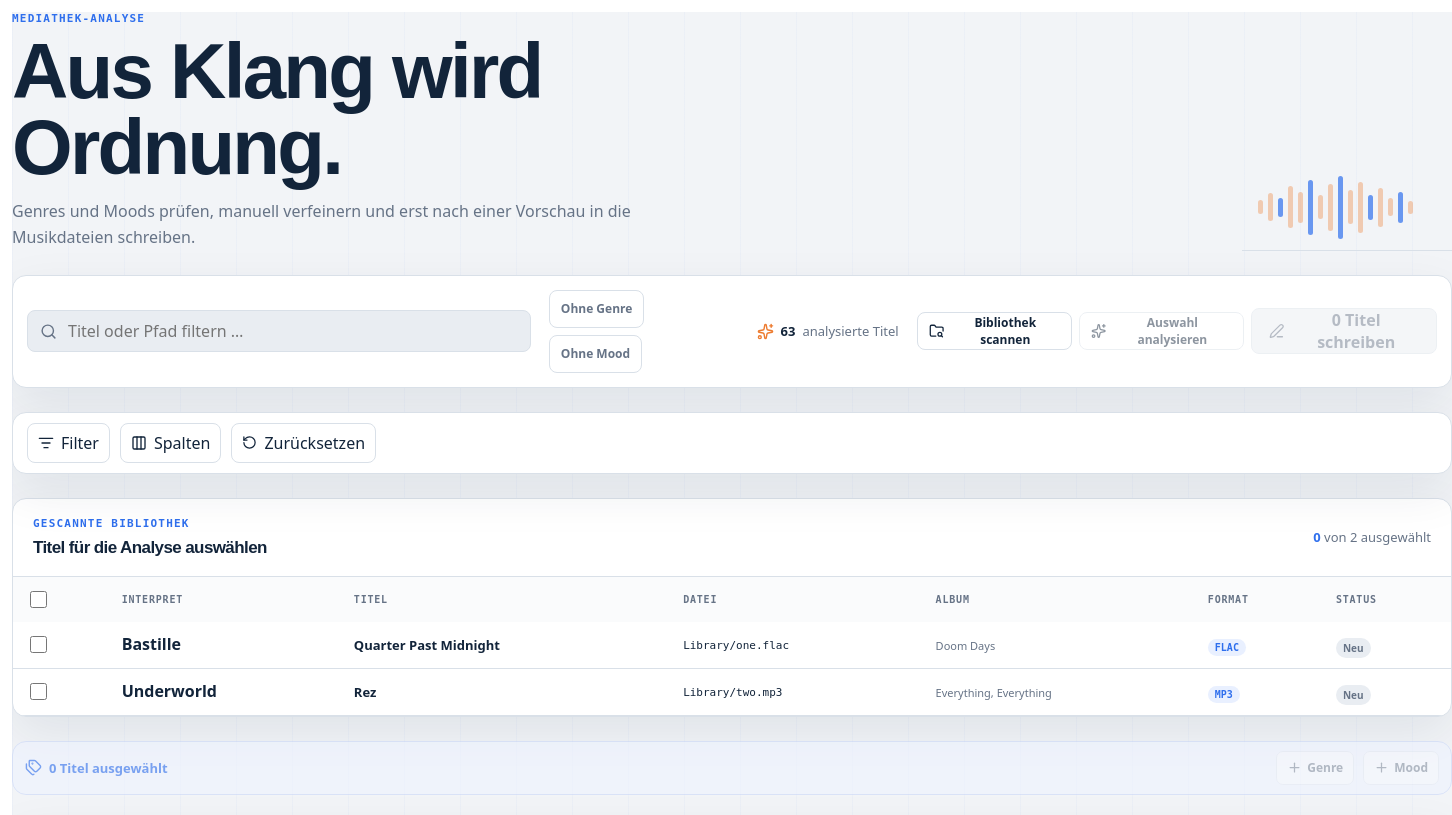
Scenario: shows a filter-specific empty state when status filters hide every loaded track
Expected: the checkbox named "Library/one.flac analysieren" is shown, [30, 636, 47, 653]
Click the heading "Filter": (68, 443) [27, 423, 110, 463]
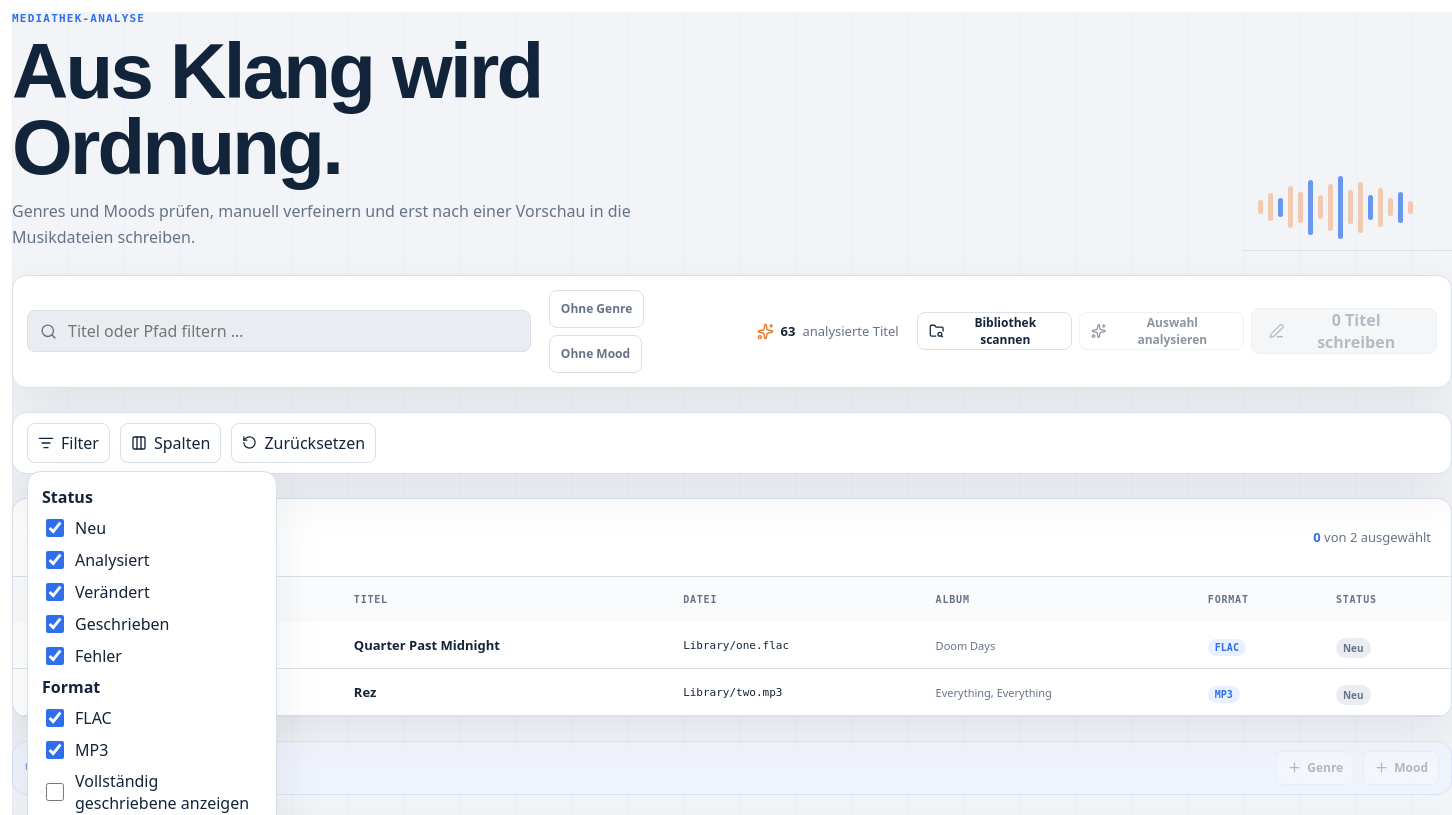
Click the checkbox labelled "Neu": (55, 528) [46, 519, 64, 537]
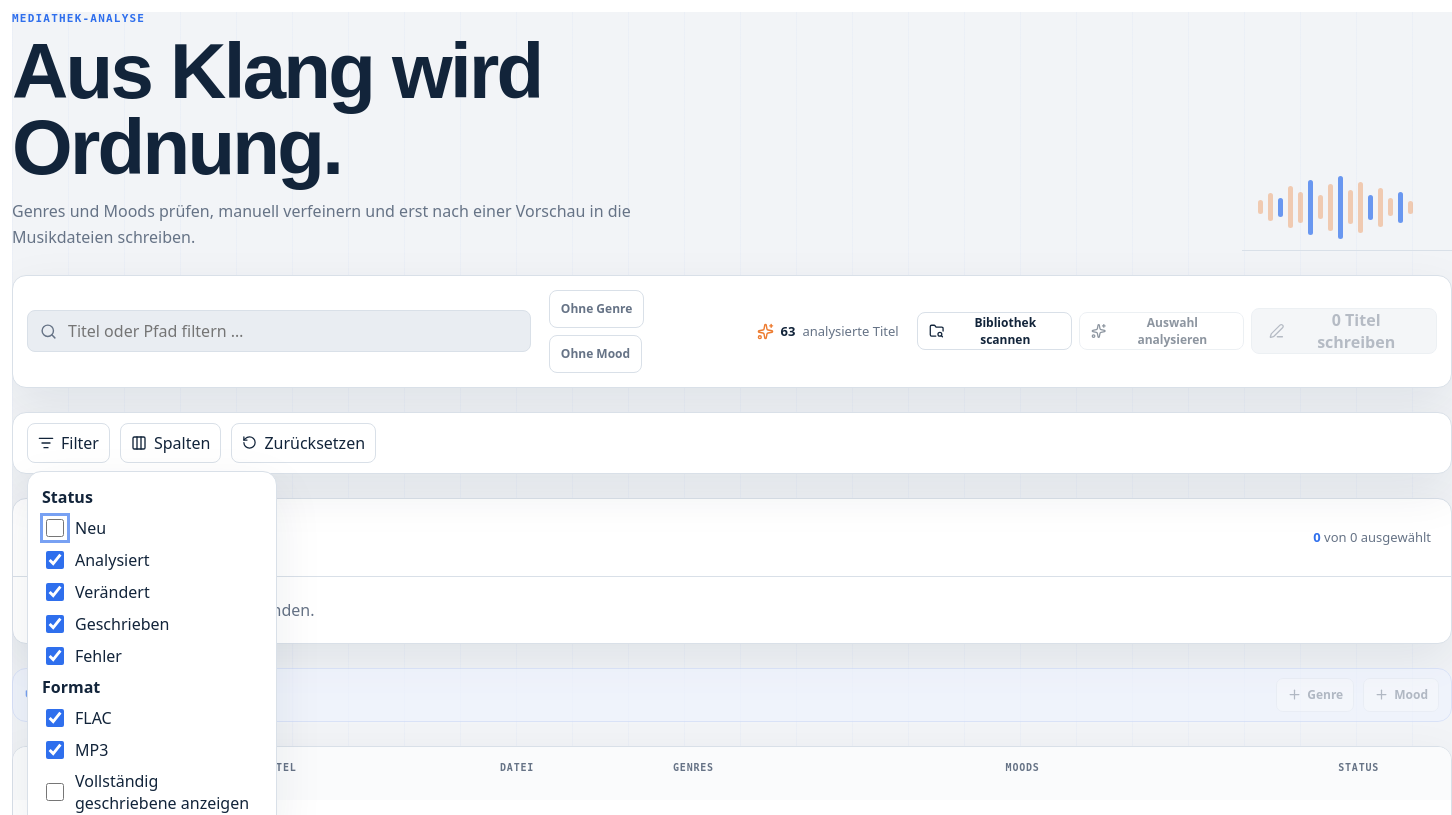
Expected: the text "Keine Titel für diesen Filter gefunden." is shown, [33, 599, 314, 621]
